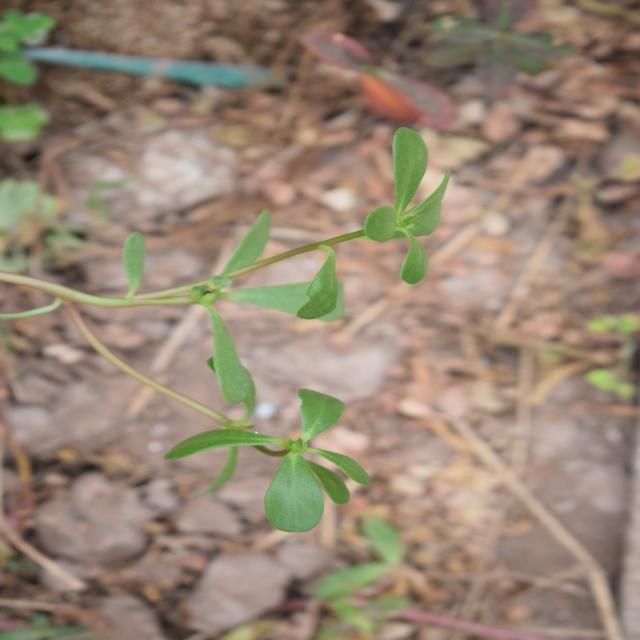purslane: (91, 138, 538, 523)
